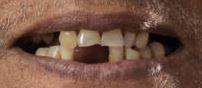Hypodontia: (71, 45, 113, 64)
